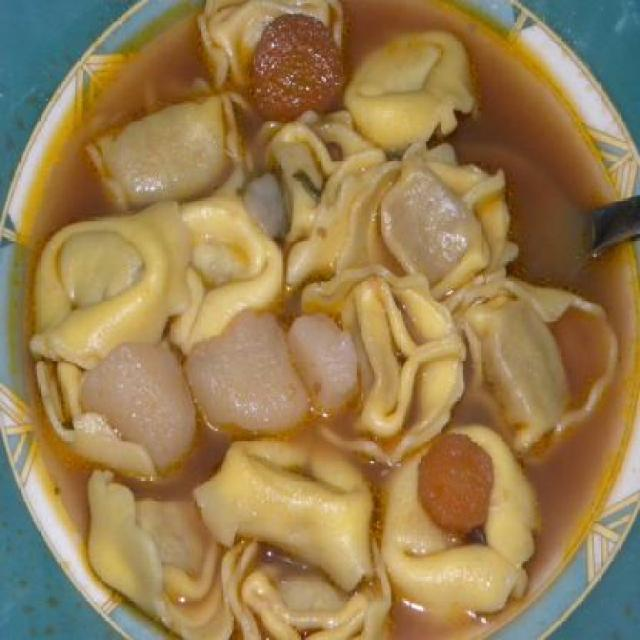Tortellini in broth: (41, 21, 557, 640)
